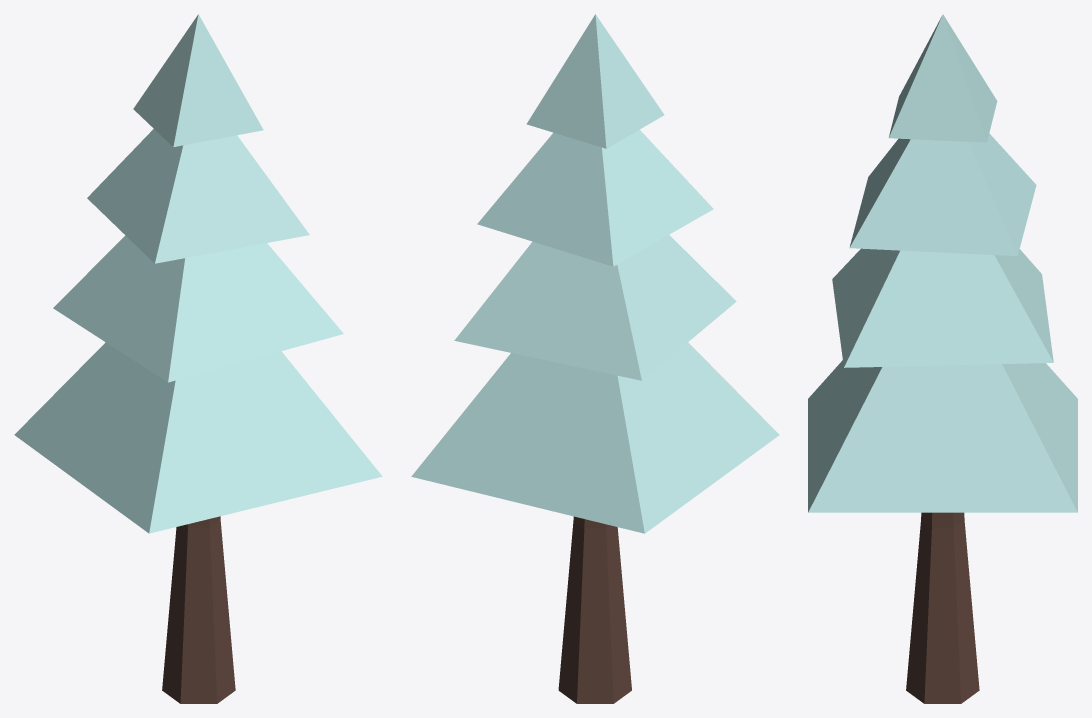
File: WinterTree_02.fbx
The picture shows the model from 3 angles, left to right: view 1: azimuth 30°, elevation 25°; view 2: azimuth 150°, elevation 25°; view 3: azimuth 270°, elevation 25°; orthographic projection.
Parts seen in each view (by area): view 1: WinterTree_02; view 2: WinterTree_02; view 3: WinterTree_02.
Boxes of the visible parts, x1,y1,x2,y2 form: WinterTree_02: (14,14,382,703); WinterTree_02: (411,14,779,703); WinterTree_02: (808,14,1077,703).
Bounding box in the file's own units: 287 × 795 × 287.
